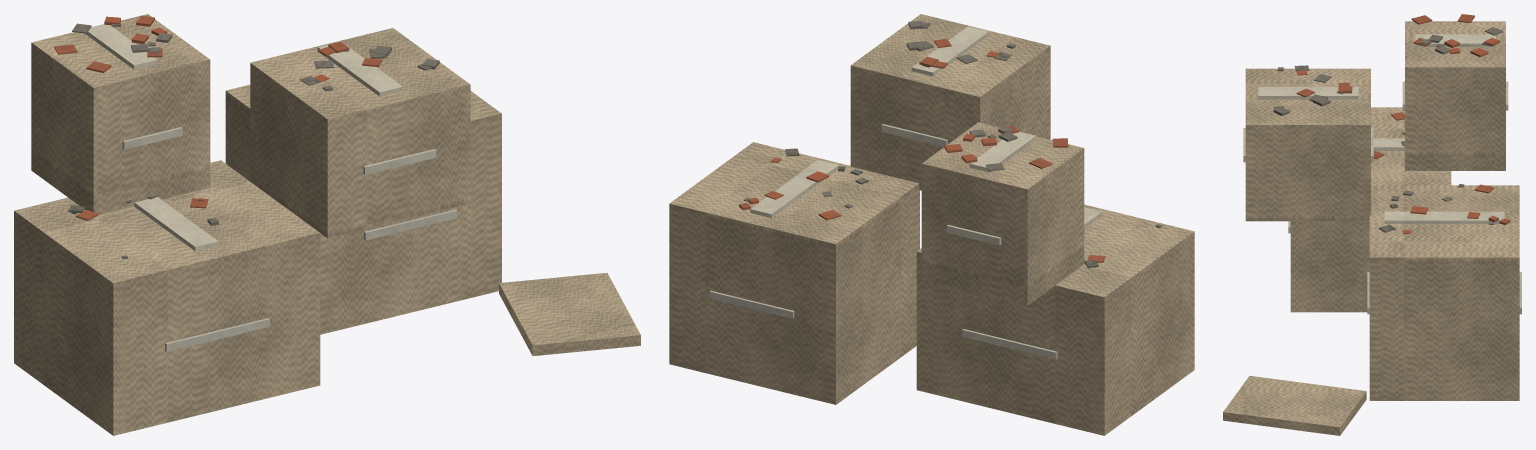
File: dusty_cardboard_box_stack.glb
The picture shows the model from 3 angles, left to right: view 1: azimuth 30°, elevation 25°; view 2: azimuth 150°, elevation 25°; view 3: azimuth 270°, elevation 25°; orthographic projection. The views are drawn at different scales.
Parts seen in each view (by area): view 1: InteriorPropGeometry; view 2: InteriorPropGeometry; view 3: InteriorPropGeometry.
Part boxes in pixels (x1=…): InteriorPropGeometry: x1=14, y1=14, x2=640, y2=435; InteriorPropGeometry: x1=669, y1=14, x2=1194, y2=435; InteriorPropGeometry: x1=1223, y1=14, x2=1521, y2=435.
Bounding box in the file's own units: 1.8 × 0.99 × 1.1.
Materials: 5 (5 with a texture image).
